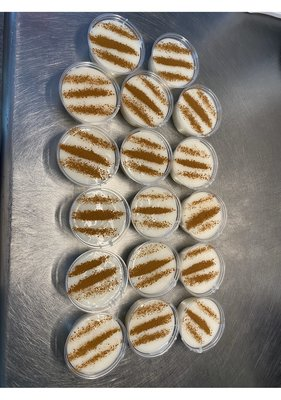pizza: (177, 297, 225, 354), (178, 243, 225, 297)
